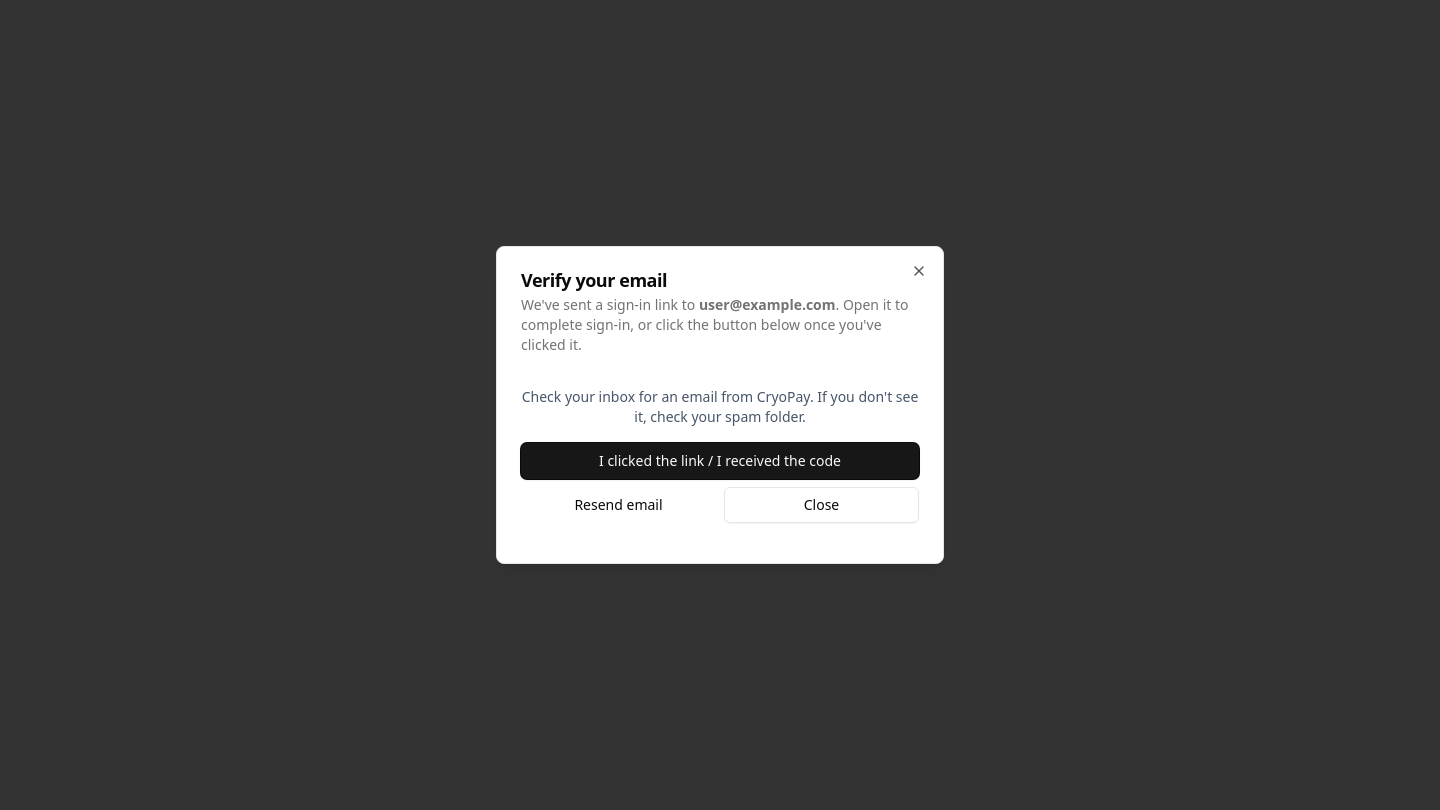
Test: EmailOtpModal › shows resend cooldown after sending
Click the button "Resend email".
click(618, 505)  # box left=521, top=487, right=716, bottom=523
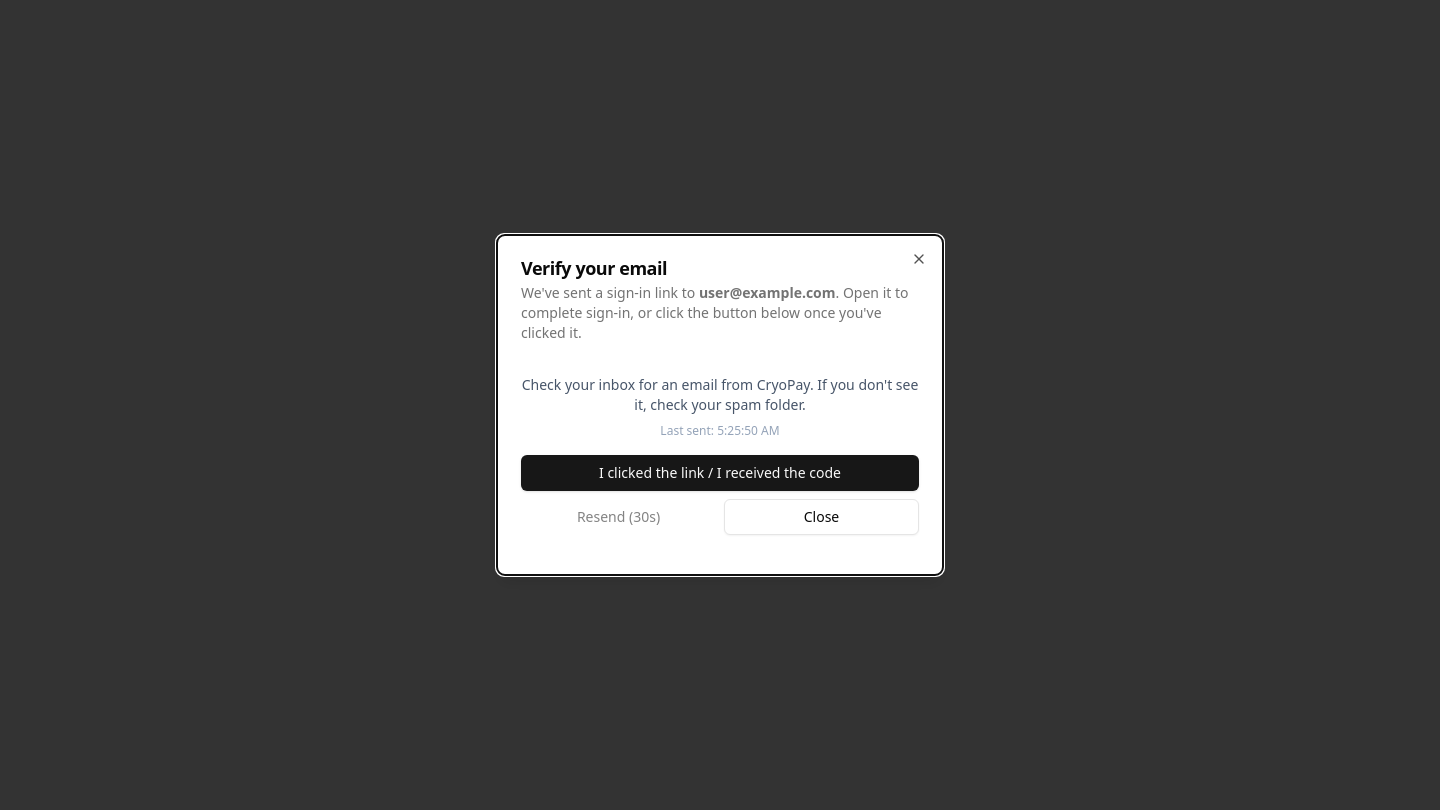
expect the button "Resend (30s)" is shown: met, box left=521, top=499, right=716, bottom=535
